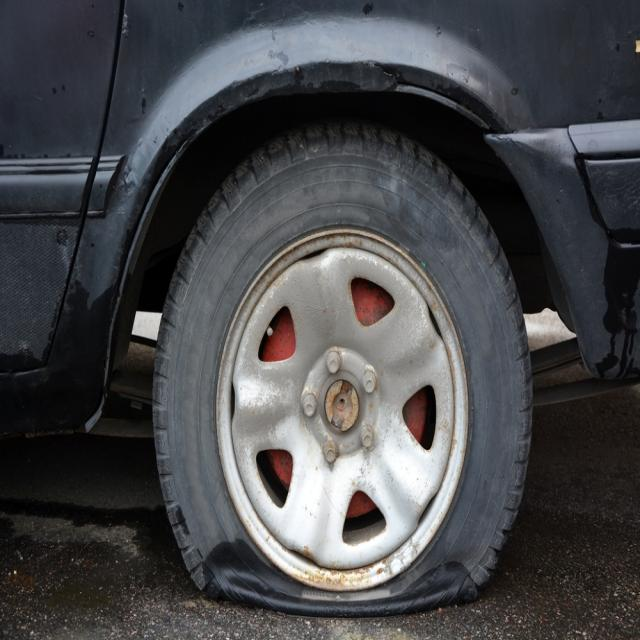tire flat: (153, 124, 532, 619)
